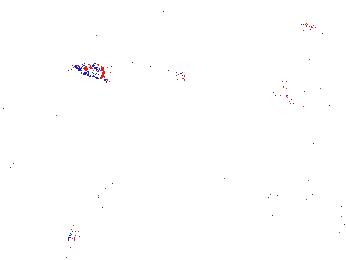X-ray fish: (65, 186, 94, 215)
glassfish: (67, 162, 127, 250), (70, 55, 201, 88)
red belly glassfish: (298, 19, 331, 35)
